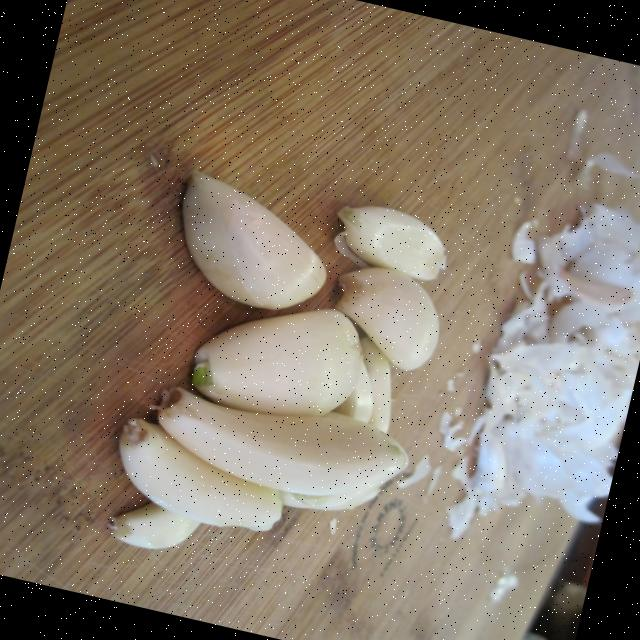garlic: (112, 281, 438, 547), (156, 387, 407, 495), (182, 170, 326, 308), (182, 171, 325, 308), (119, 418, 282, 530), (192, 308, 362, 415), (336, 267, 438, 369), (334, 205, 445, 279), (338, 206, 444, 280), (108, 502, 199, 548)
